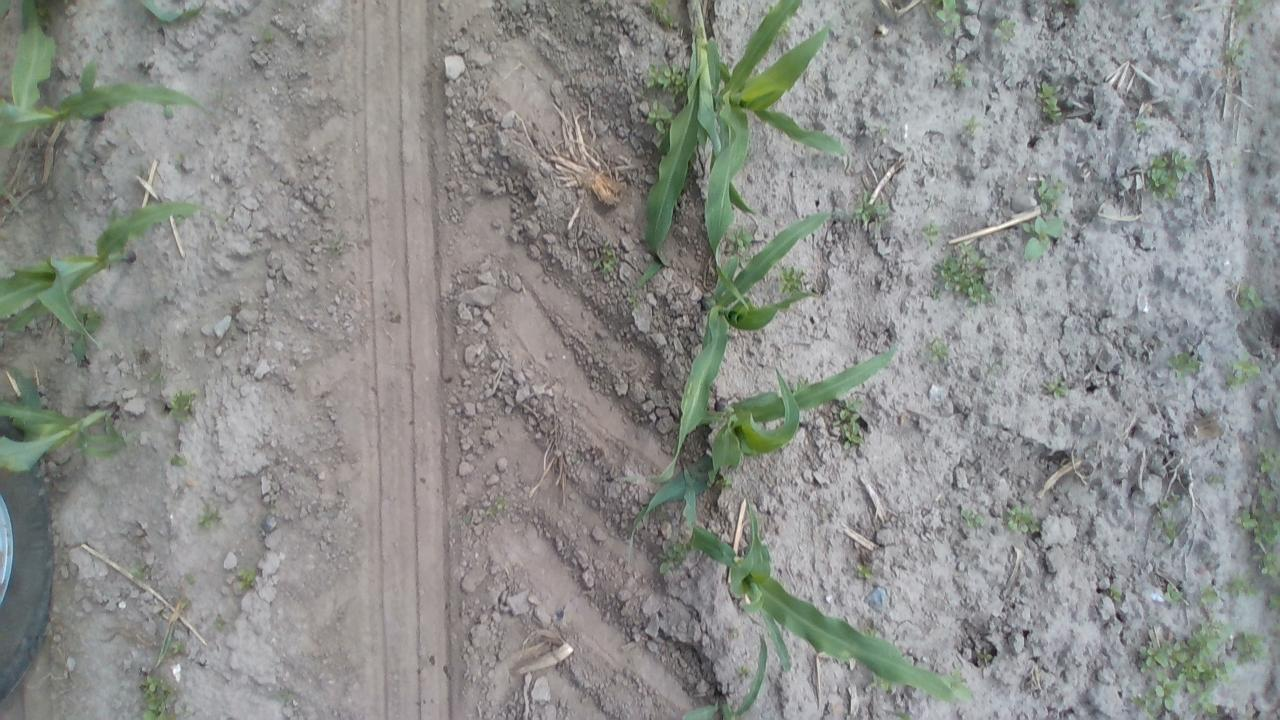Maize: (610, 0, 854, 289), (628, 338, 908, 570), (610, 206, 836, 472), (686, 510, 973, 702), (0, 198, 211, 364), (0, 6, 205, 162), (0, 357, 128, 471), (682, 634, 774, 720), (125, 1, 212, 20)
Weeds: (1130, 620, 1270, 718), (1235, 439, 1280, 572), (1156, 572, 1278, 610), (929, 241, 992, 301), (1145, 148, 1197, 198), (1142, 498, 1194, 544), (828, 395, 872, 447), (1023, 214, 1065, 262), (136, 675, 173, 720), (1222, 350, 1261, 390), (1033, 78, 1064, 126), (190, 492, 227, 529), (1235, 284, 1280, 314), (644, 63, 687, 93), (1164, 345, 1204, 375), (1032, 176, 1066, 210), (658, 537, 689, 574), (1219, 34, 1252, 68), (854, 192, 886, 227), (934, 0, 962, 38), (592, 241, 618, 280), (170, 388, 198, 424), (921, 336, 952, 368), (940, 65, 976, 92), (1005, 505, 1040, 532), (644, 102, 672, 134), (726, 222, 755, 252), (1230, 0, 1270, 21), (325, 233, 351, 263), (650, 0, 675, 29), (780, 266, 806, 293), (234, 566, 262, 591), (956, 506, 982, 532), (1040, 374, 1068, 397), (995, 14, 1017, 42), (958, 115, 982, 139), (1130, 114, 1153, 139), (920, 221, 941, 245), (1106, 582, 1124, 602), (854, 564, 874, 580), (1206, 471, 1226, 484), (736, 664, 750, 682)
